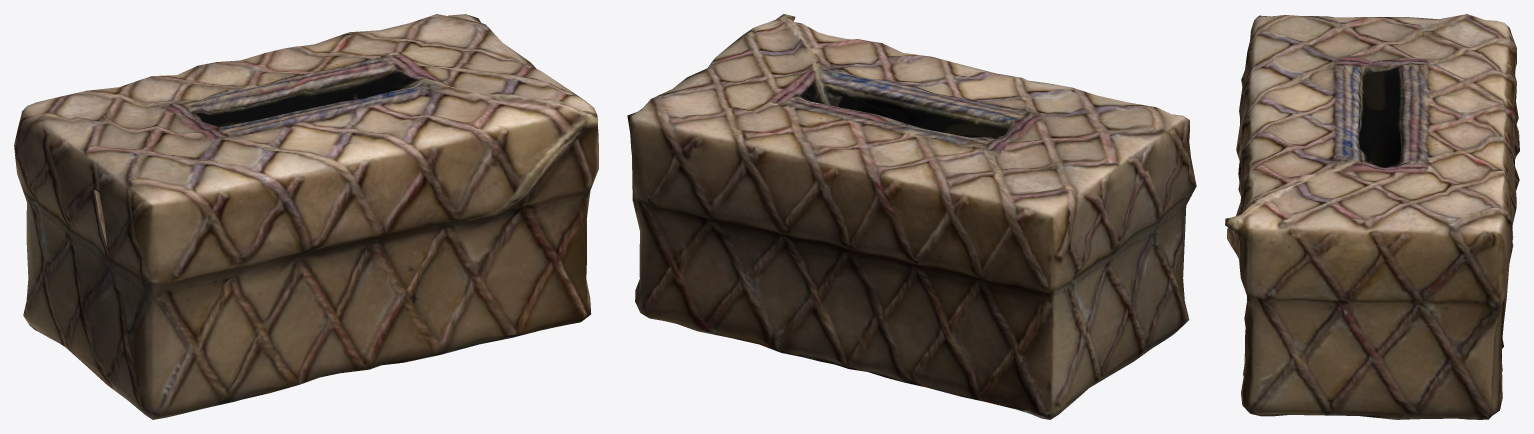
The model's file is Kreasi_Imah_Kertas_Tempat_Tisu.glb.
The picture shows the model from 3 angles, left to right: view 1: azimuth 30°, elevation 25°; view 2: azimuth 150°, elevation 25°; view 3: azimuth 270°, elevation 25°; orthographic projection. The views are drawn at different scales.
Parts seen in each view (by area): view 1: Tempat Tisu - Ver AR; view 2: Tempat Tisu - Ver AR; view 3: Tempat Tisu - Ver AR.
Part boxes in pixels (x1,y1,x2,y2): Tempat Tisu - Ver AR: (14, 14, 598, 419); Tempat Tisu - Ver AR: (627, 14, 1196, 419); Tempat Tisu - Ver AR: (1225, 14, 1519, 419).
Bounding box in the file's own units: 0.9694 × 0.4912 × 0.5743.
Materials: 1 (1 with a texture image).
